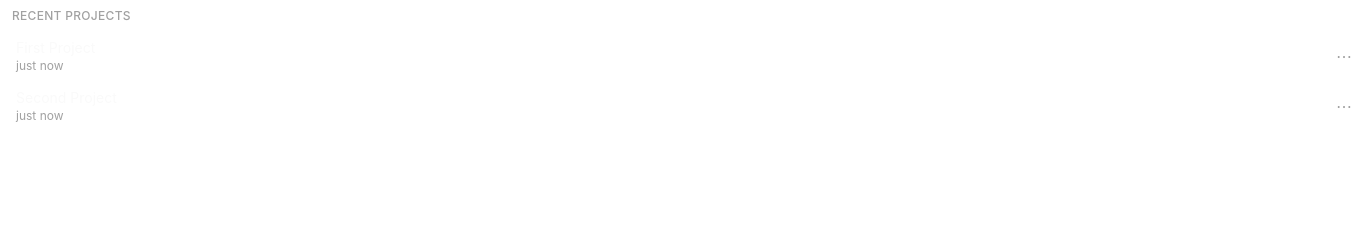
Test: delete is confirmed — there is no undo › does not delete on the menu item alone
Click the 1st button with test id "project-menu" at (1344, 56), box x1=1330 y1=40 x2=1358 y2=72
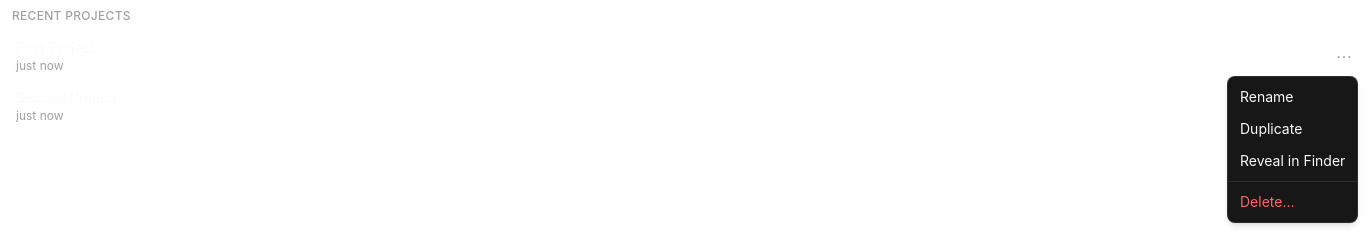
Click the menu item with test id "project-delete" at (1267, 202), box x1=1240 y1=193 x2=1294 y2=210
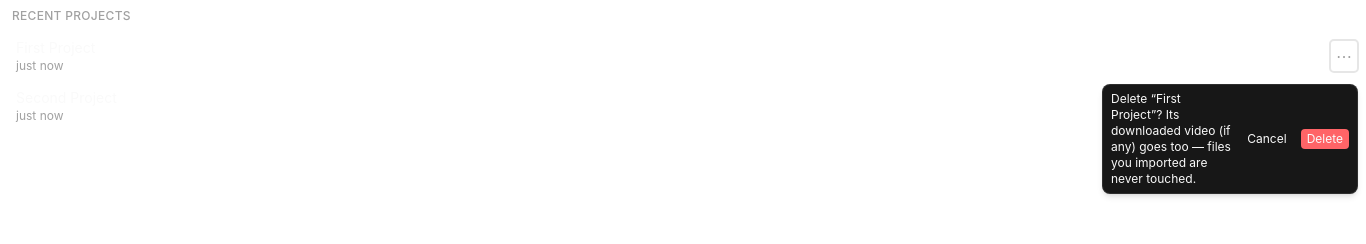
Check: the element with test id "project-delete-confirm" is shown, box x1=1102 y1=84 x2=1358 y2=194
